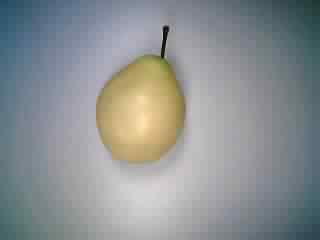pear: (81, 18, 200, 172)
